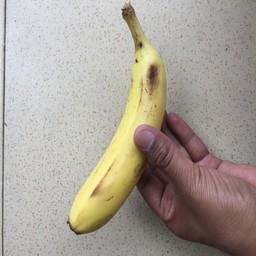Banana Ripe: (57, 0, 173, 256)
